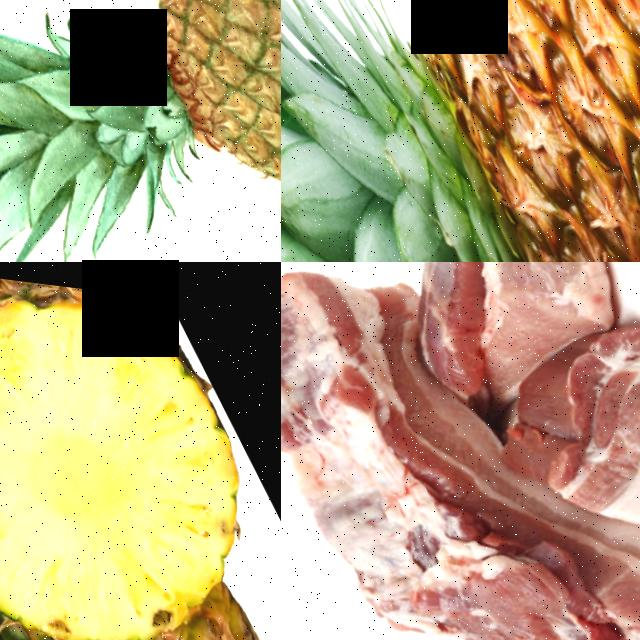pineapple: (0, 262, 281, 640), (281, 0, 640, 262), (19, 0, 281, 262), (0, 538, 281, 640)
pork belly: (281, 262, 589, 640), (450, 285, 640, 594), (348, 262, 640, 418), (508, 475, 640, 640)
